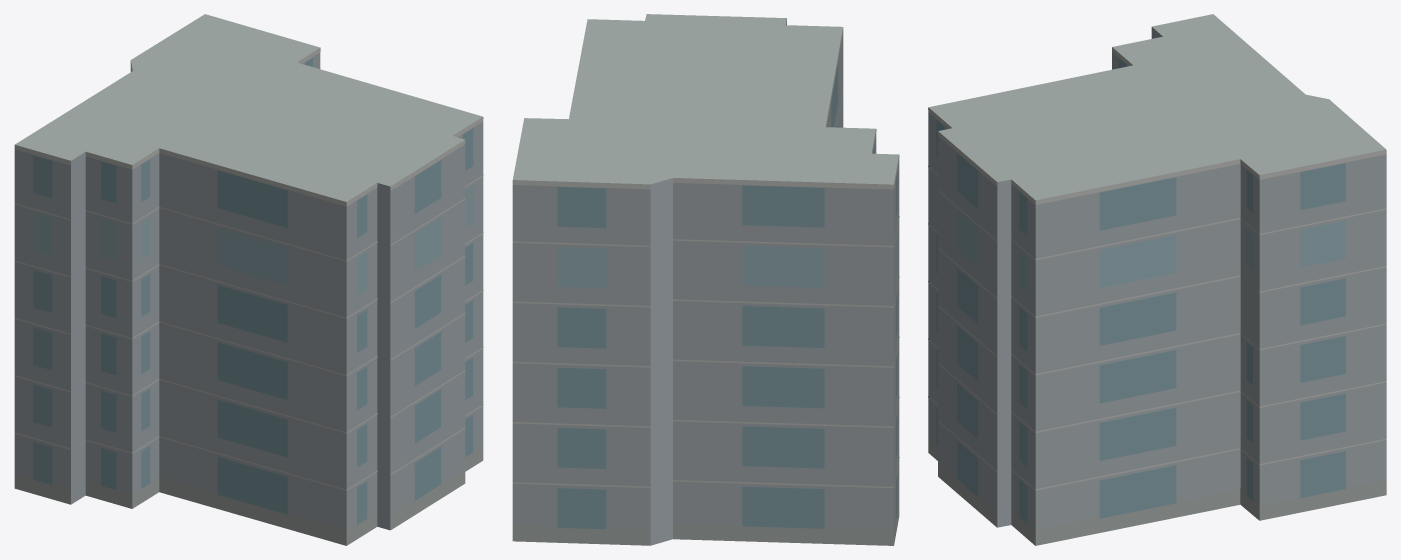
Rendered from survey-upis-32641460.glb.
3 renders of one model, left to right at view 1: azimuth 30°, elevation 25°; view 2: azimuth 150°, elevation 25°; view 3: azimuth 270°, elevation 25°, orthographic. The views are drawn at different scales.
Parts seen in each view (by area): view 1: survey-upis-32641460.tmp; view 2: survey-upis-32641460.tmp; view 3: survey-upis-32641460.tmp.
Part boxes in pixels (left/top/right/bottom): survey-upis-32641460.tmp: left=14, top=14, right=483, bottom=545; survey-upis-32641460.tmp: left=512, top=14, right=899, bottom=545; survey-upis-32641460.tmp: left=928, top=14, right=1386, bottom=545.
Size of the model in its own units: 20.73 by 17.9 by 21.54.
